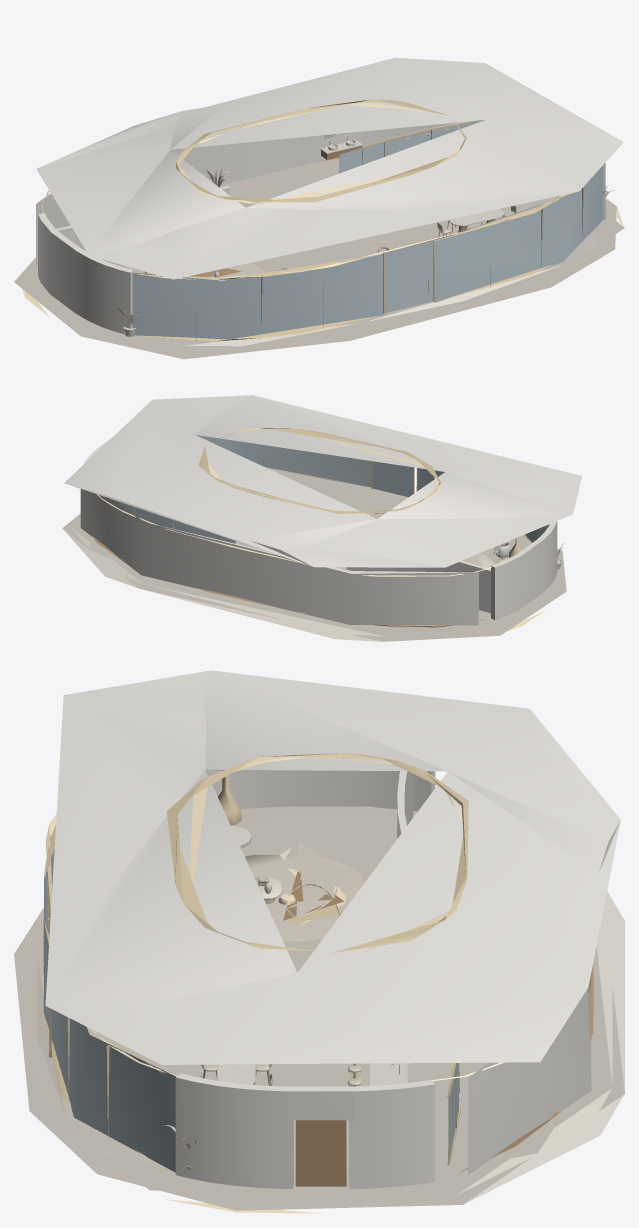
File: Nautilus_LOD2.dae
3 renders of one model, top to bottom at view 1: azimuth 30°, elevation 25°; view 2: azimuth 150°, elevation 25°; view 3: azimuth 270°, elevation 25°, orthographic. The views are drawn at different scales.
Parts seen in each view (by area): view 1: Nautilus_Roof_LOD2, Nautilus_Glass_S_LOD2, Nautilus_Floor_LOD2, Nautilus_Wall_W_LOD2, Nautilus_Wall_N_LOD2, Nautilus_Door_S_LOD2, Nautilus_Bath_Screen_LOD2, Nautilus_Vanity_LOD2, Nautilus_Dining_Table_LOD2; view 2: Nautilus_Roof_LOD2, Nautilus_Wall_N_LOD2, Nautilus_Floor_LOD2, Nautilus_Glass_S_LOD2, Nautilus_Wall_W_LOD2, Nautilus_Partition_LOD2, Nautilus_Door_S_LOD2, Nautilus_Bath_Screen_LOD2; view 3: Nautilus_Roof_LOD2, Nautilus_Floor_LOD2, Nautilus_Wall_E_LOD2, Nautilus_Glass_S_LOD2, Nautilus_Wall_N_LOD2, Nautilus_Wall_W_LOD2, Nautilus_Door_E_LOD2, Nautilus_Sofa_LOD2, Nautilus_Rug_LOD2, Nautilus_Partition_LOD2, Nautilus_Fireplace_LOD2, Nautilus_Bath_Screen_LOD2 (+2 smaller).
Boxes of the visible parts, x1,y1,x2,y2 form: Nautilus_Roof_LOD2: (36,57,623,279); Nautilus_Glass_S_LOD2: (132,165,603,341); Nautilus_Floor_LOD2: (14,158,624,359); Nautilus_Wall_W_LOD2: (38,213,134,333); Nautilus_Wall_N_LOD2: (36,122,459,266); Nautilus_Door_S_LOD2: (383,240,434,313); Nautilus_Bath_Screen_LOD2: (339,120,484,173); Nautilus_Vanity_LOD2: (320,132,362,159); Nautilus_Dining_Table_LOD2: (449,209,504,232); Nautilus_Roof_LOD2: (64,395,581,576); Nautilus_Wall_N_LOD2: (80,489,486,627); Nautilus_Floor_LOD2: (62,469,566,641); Nautilus_Glass_S_LOD2: (195,434,549,542); Nautilus_Wall_W_LOD2: (491,521,557,620); Nautilus_Partition_LOD2: (346,561,490,613); Nautilus_Door_S_LOD2: (371,461,414,497); Nautilus_Bath_Screen_LOD2: (116,501,235,543); Nautilus_Roof_LOD2: (45,670,620,1080); Nautilus_Floor_LOD2: (14,806,624,1213); Nautilus_Wall_E_LOD2: (175,1073,435,1189); Nautilus_Glass_S_LOD2: (43,825,176,1172); Nautilus_Wall_N_LOD2: (458,964,593,1174); Nautilus_Wall_W_LOD2: (205,769,435,811); Nautilus_Door_E_LOD2: (295,1120,346,1186); Nautilus_Sofa_LOD2: (279,841,349,925); Nautilus_Rug_LOD2: (245,854,364,941); Nautilus_Partition_LOD2: (397,771,413,838); Nautilus_Fireplace_LOD2: (218,770,252,848); Nautilus_Bath_Screen_LOD2: (447,1063,460,1165).
Size of the model in its own units: 27.44 by 17.28 by 4.94.
